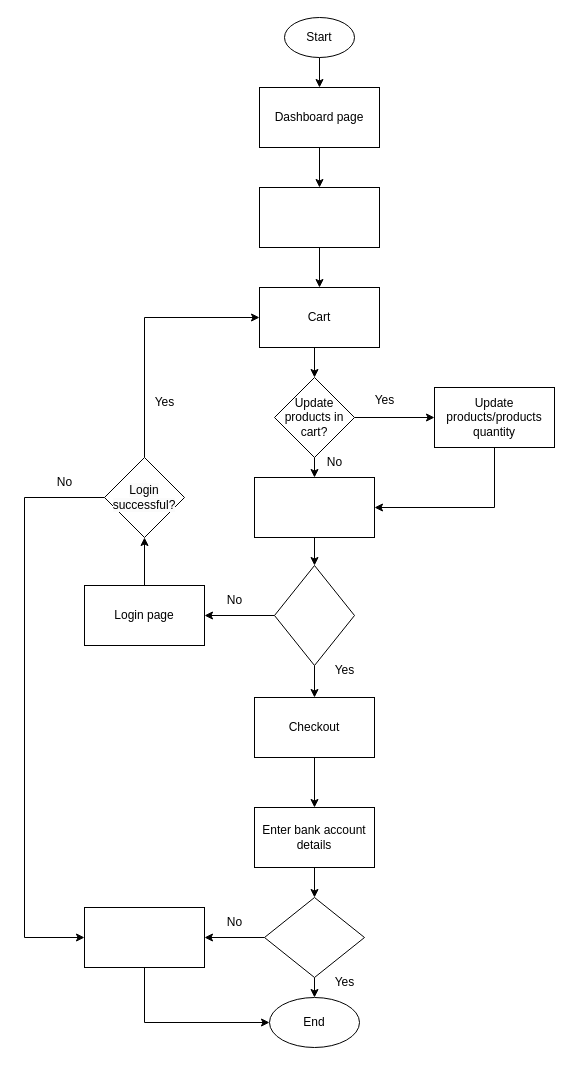
Image size: 572x1065. Some labels were removed from this diagram. Each missing label, with the box of its shape:
Adding products to cart: (258, 186, 380, 248)
Proceed to checkout: (254, 476, 374, 538)
Purchase failed: (84, 906, 204, 968)
Transaction successful?: (264, 896, 364, 978)
User logged in?: (274, 564, 354, 666)
